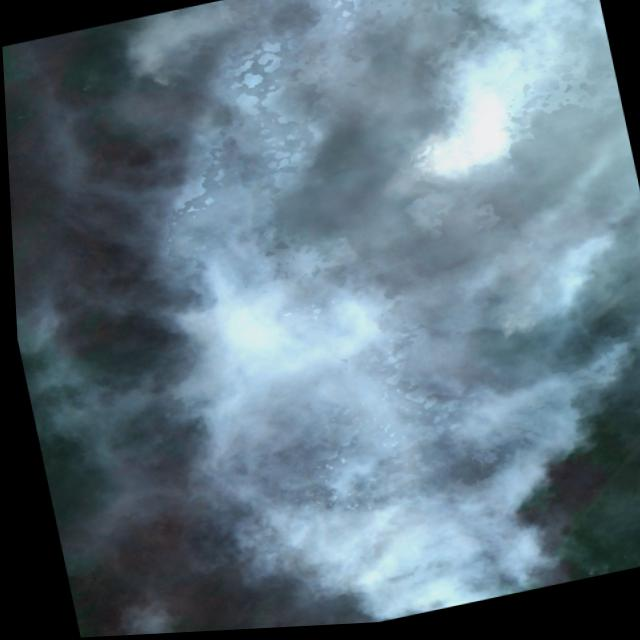fire: (345, 0, 553, 208), (463, 285, 550, 352), (133, 44, 214, 110)
